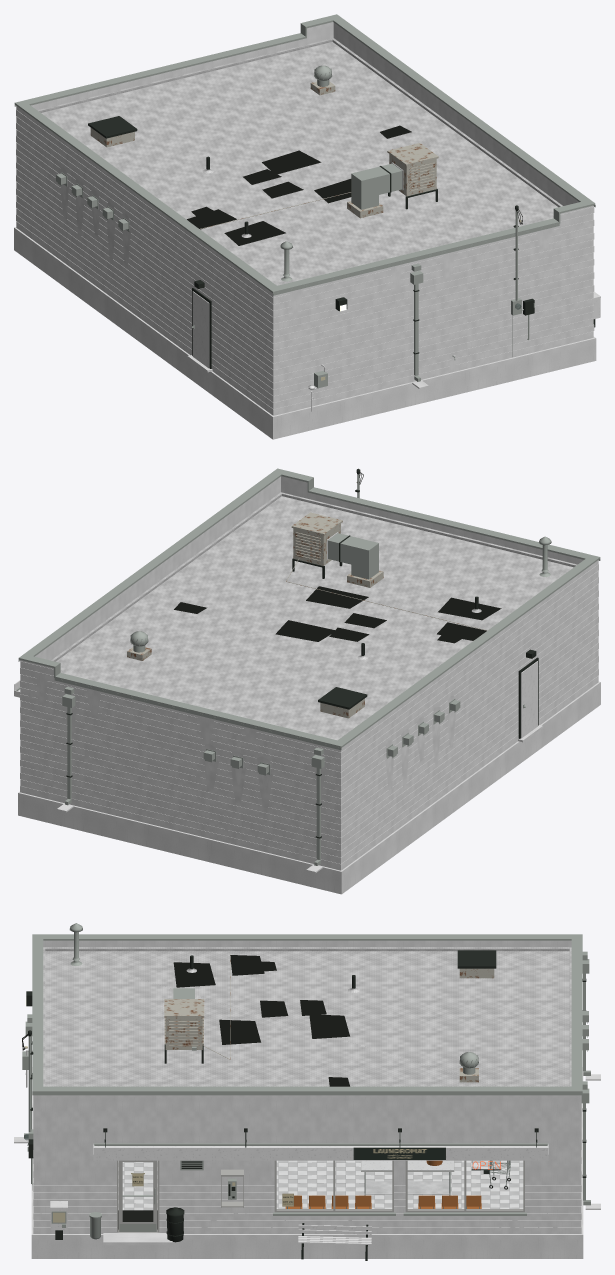
File: Laundry.glb
3 renders of one model, top to bottom at view 1: azimuth 30°, elevation 25°; view 2: azimuth 150°, elevation 25°; view 3: azimuth 270°, elevation 25°, orthographic. The views are drawn at different scales.
Parts seen in each view (by area): view 1: SM_Town_Laundry_Shell, SM_Town_Laundry_Fixtures; view 2: SM_Town_Laundry_Shell; view 3: SM_Town_Laundry_Shell, SM_Town_Laundry_Interior, SM_Town_Laundry_Fixtures.
Part boxes in pixels (x1,y1,x2,y2): SM_Town_Laundry_Shell: [14, 14, 600, 439]; SM_Town_Laundry_Fixtures: [191, 192, 534, 411]; SM_Town_Laundry_Shell: [14, 468, 600, 894]; SM_Town_Laundry_Shell: [14, 923, 600, 1260]; SM_Town_Laundry_Interior: [118, 1160, 523, 1229]; SM_Town_Laundry_Fixtures: [22, 954, 538, 1231].
Bounding box in the file's own units: 11.13 × 5.55 × 15.24.
Materials: 41 (29 with a texture image).
